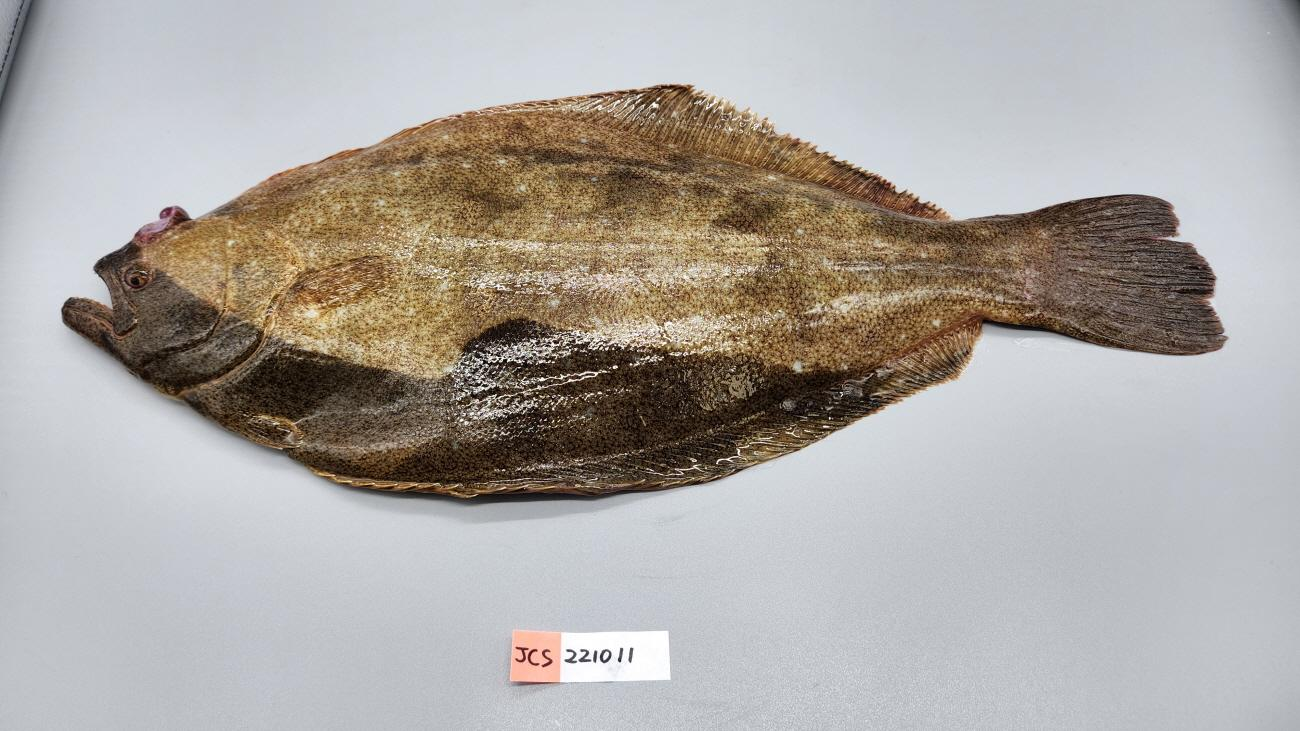VIFCH: (1032, 194, 1227, 356)
VIOUY: (62, 65, 1226, 513)
